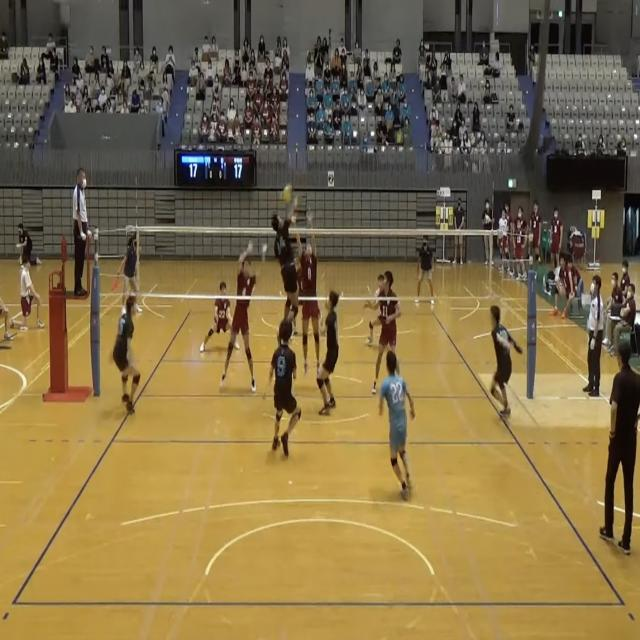spike: (266, 182, 304, 346)
